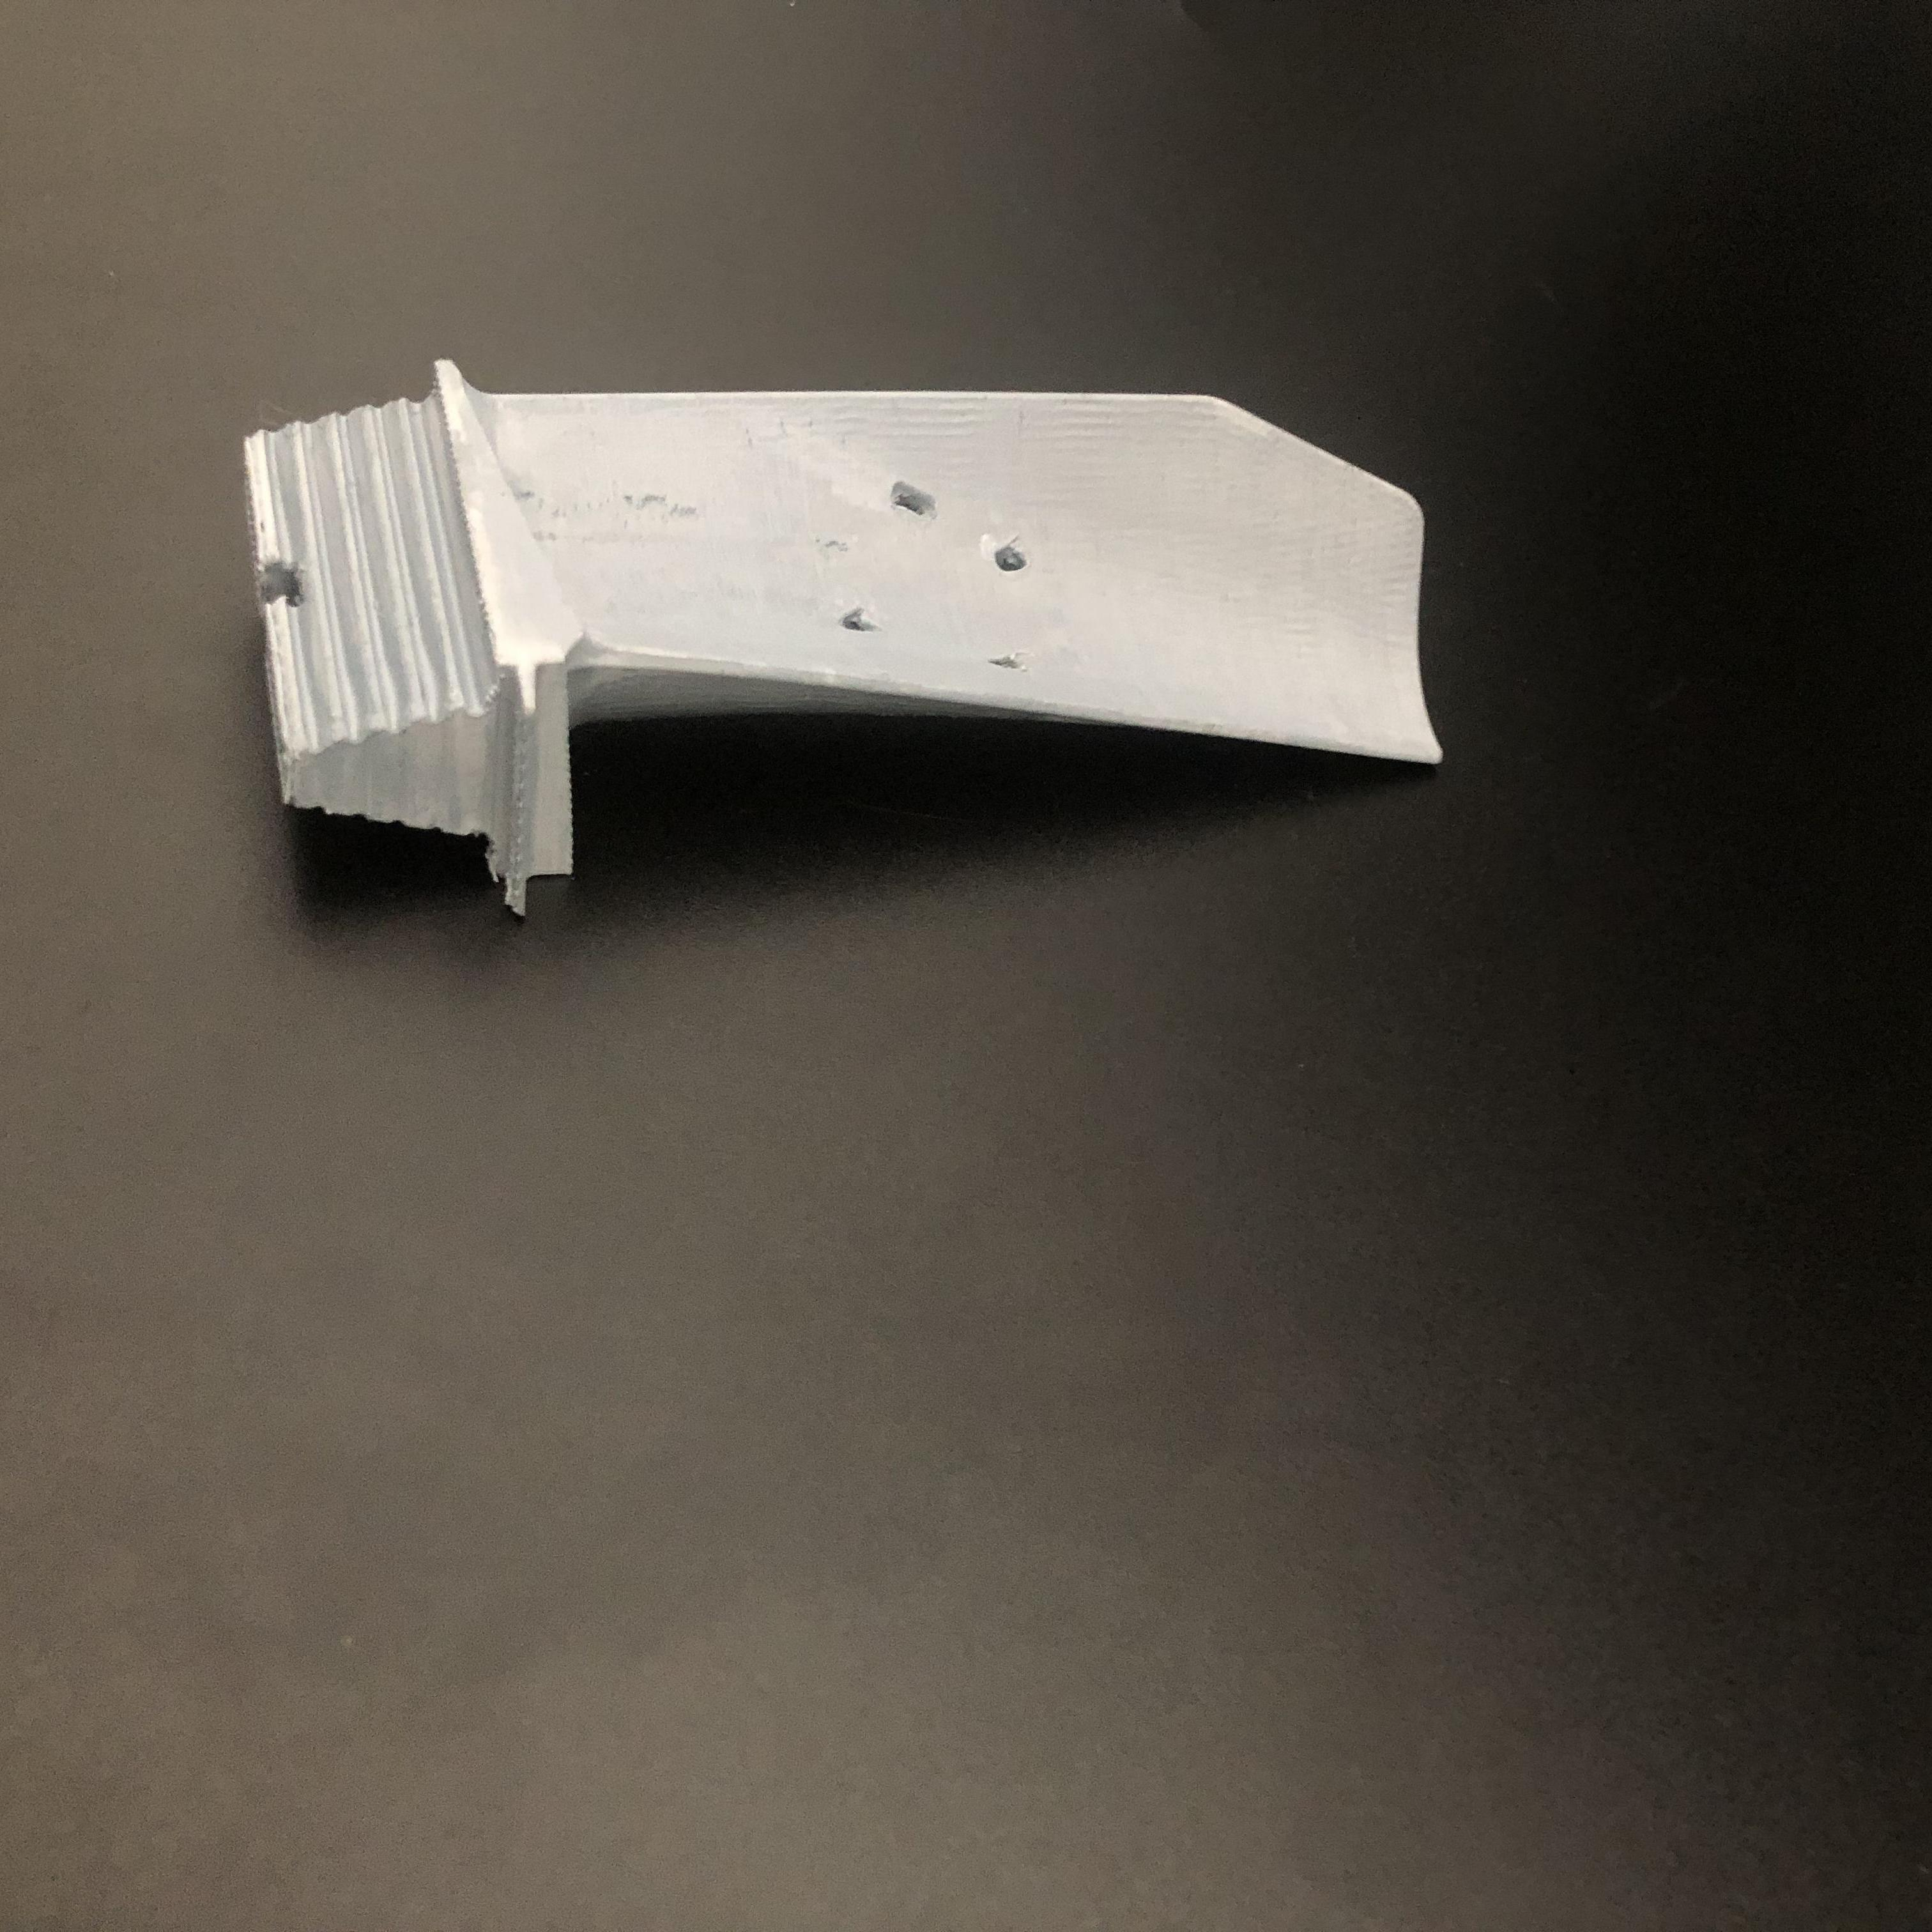breakdown: (846, 487, 1035, 686)
